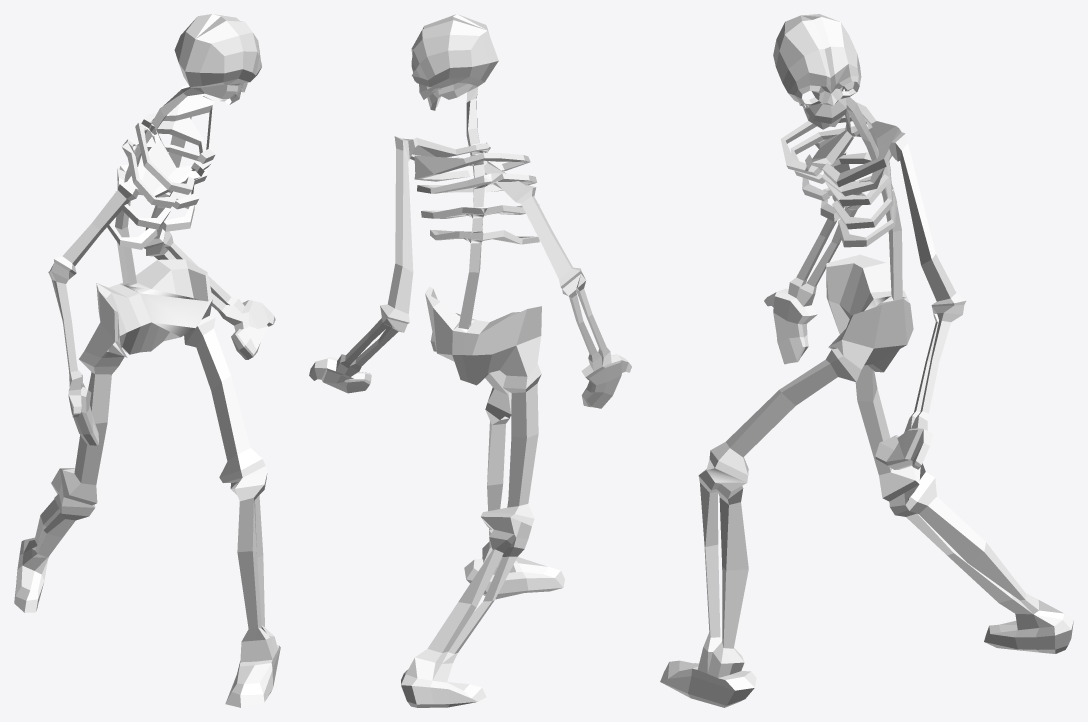
The model's file is SkeletonIdle(37).obj.
3 renders of one model, left to right at view 1: azimuth 30°, elevation 25°; view 2: azimuth 150°, elevation 25°; view 3: azimuth 270°, elevation 25°, orthographic. The views are drawn at different scales.
Parts seen in each view (by area): view 1: Object002; view 2: Object002; view 3: Object002.
Part boxes in pixels (x1,y1,x2,y2): Object002: (14, 14, 280, 707); Object002: (309, 14, 631, 707); Object002: (660, 14, 1073, 707).
Size of the model in its own units: 494 by 1108 by 608.
